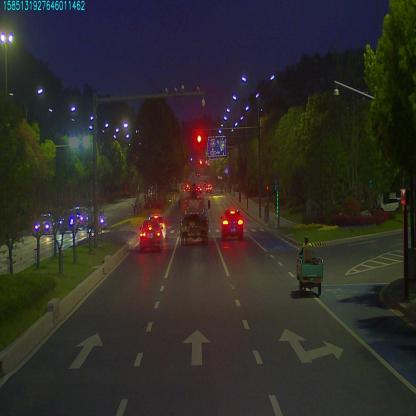traffic-light: (196, 132, 204, 146)
